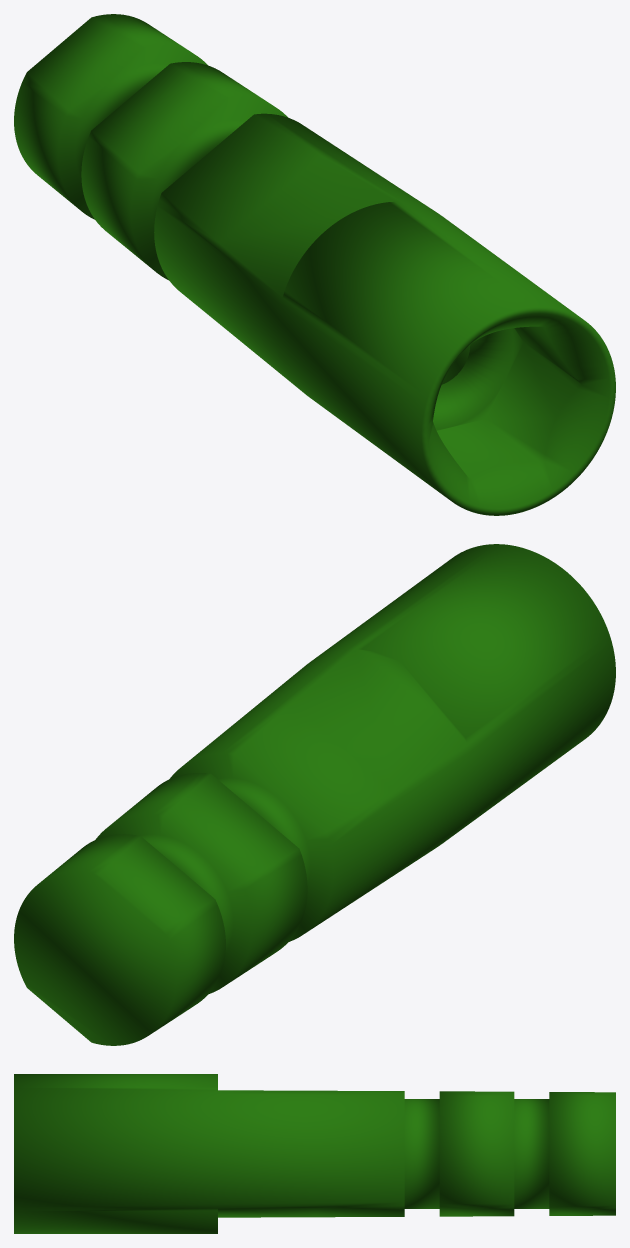
Rendered from implant_3.5.obj.
3 views of the same model, one above another, from view 1: azimuth 30°, elevation 25°; view 2: azimuth 150°, elevation 25°; view 3: azimuth 270°, elevation 25° (orthographic). The views are drawn at different scales.
Bounding box in the file's own units: 3.64 × 3.64 × 13.72.
